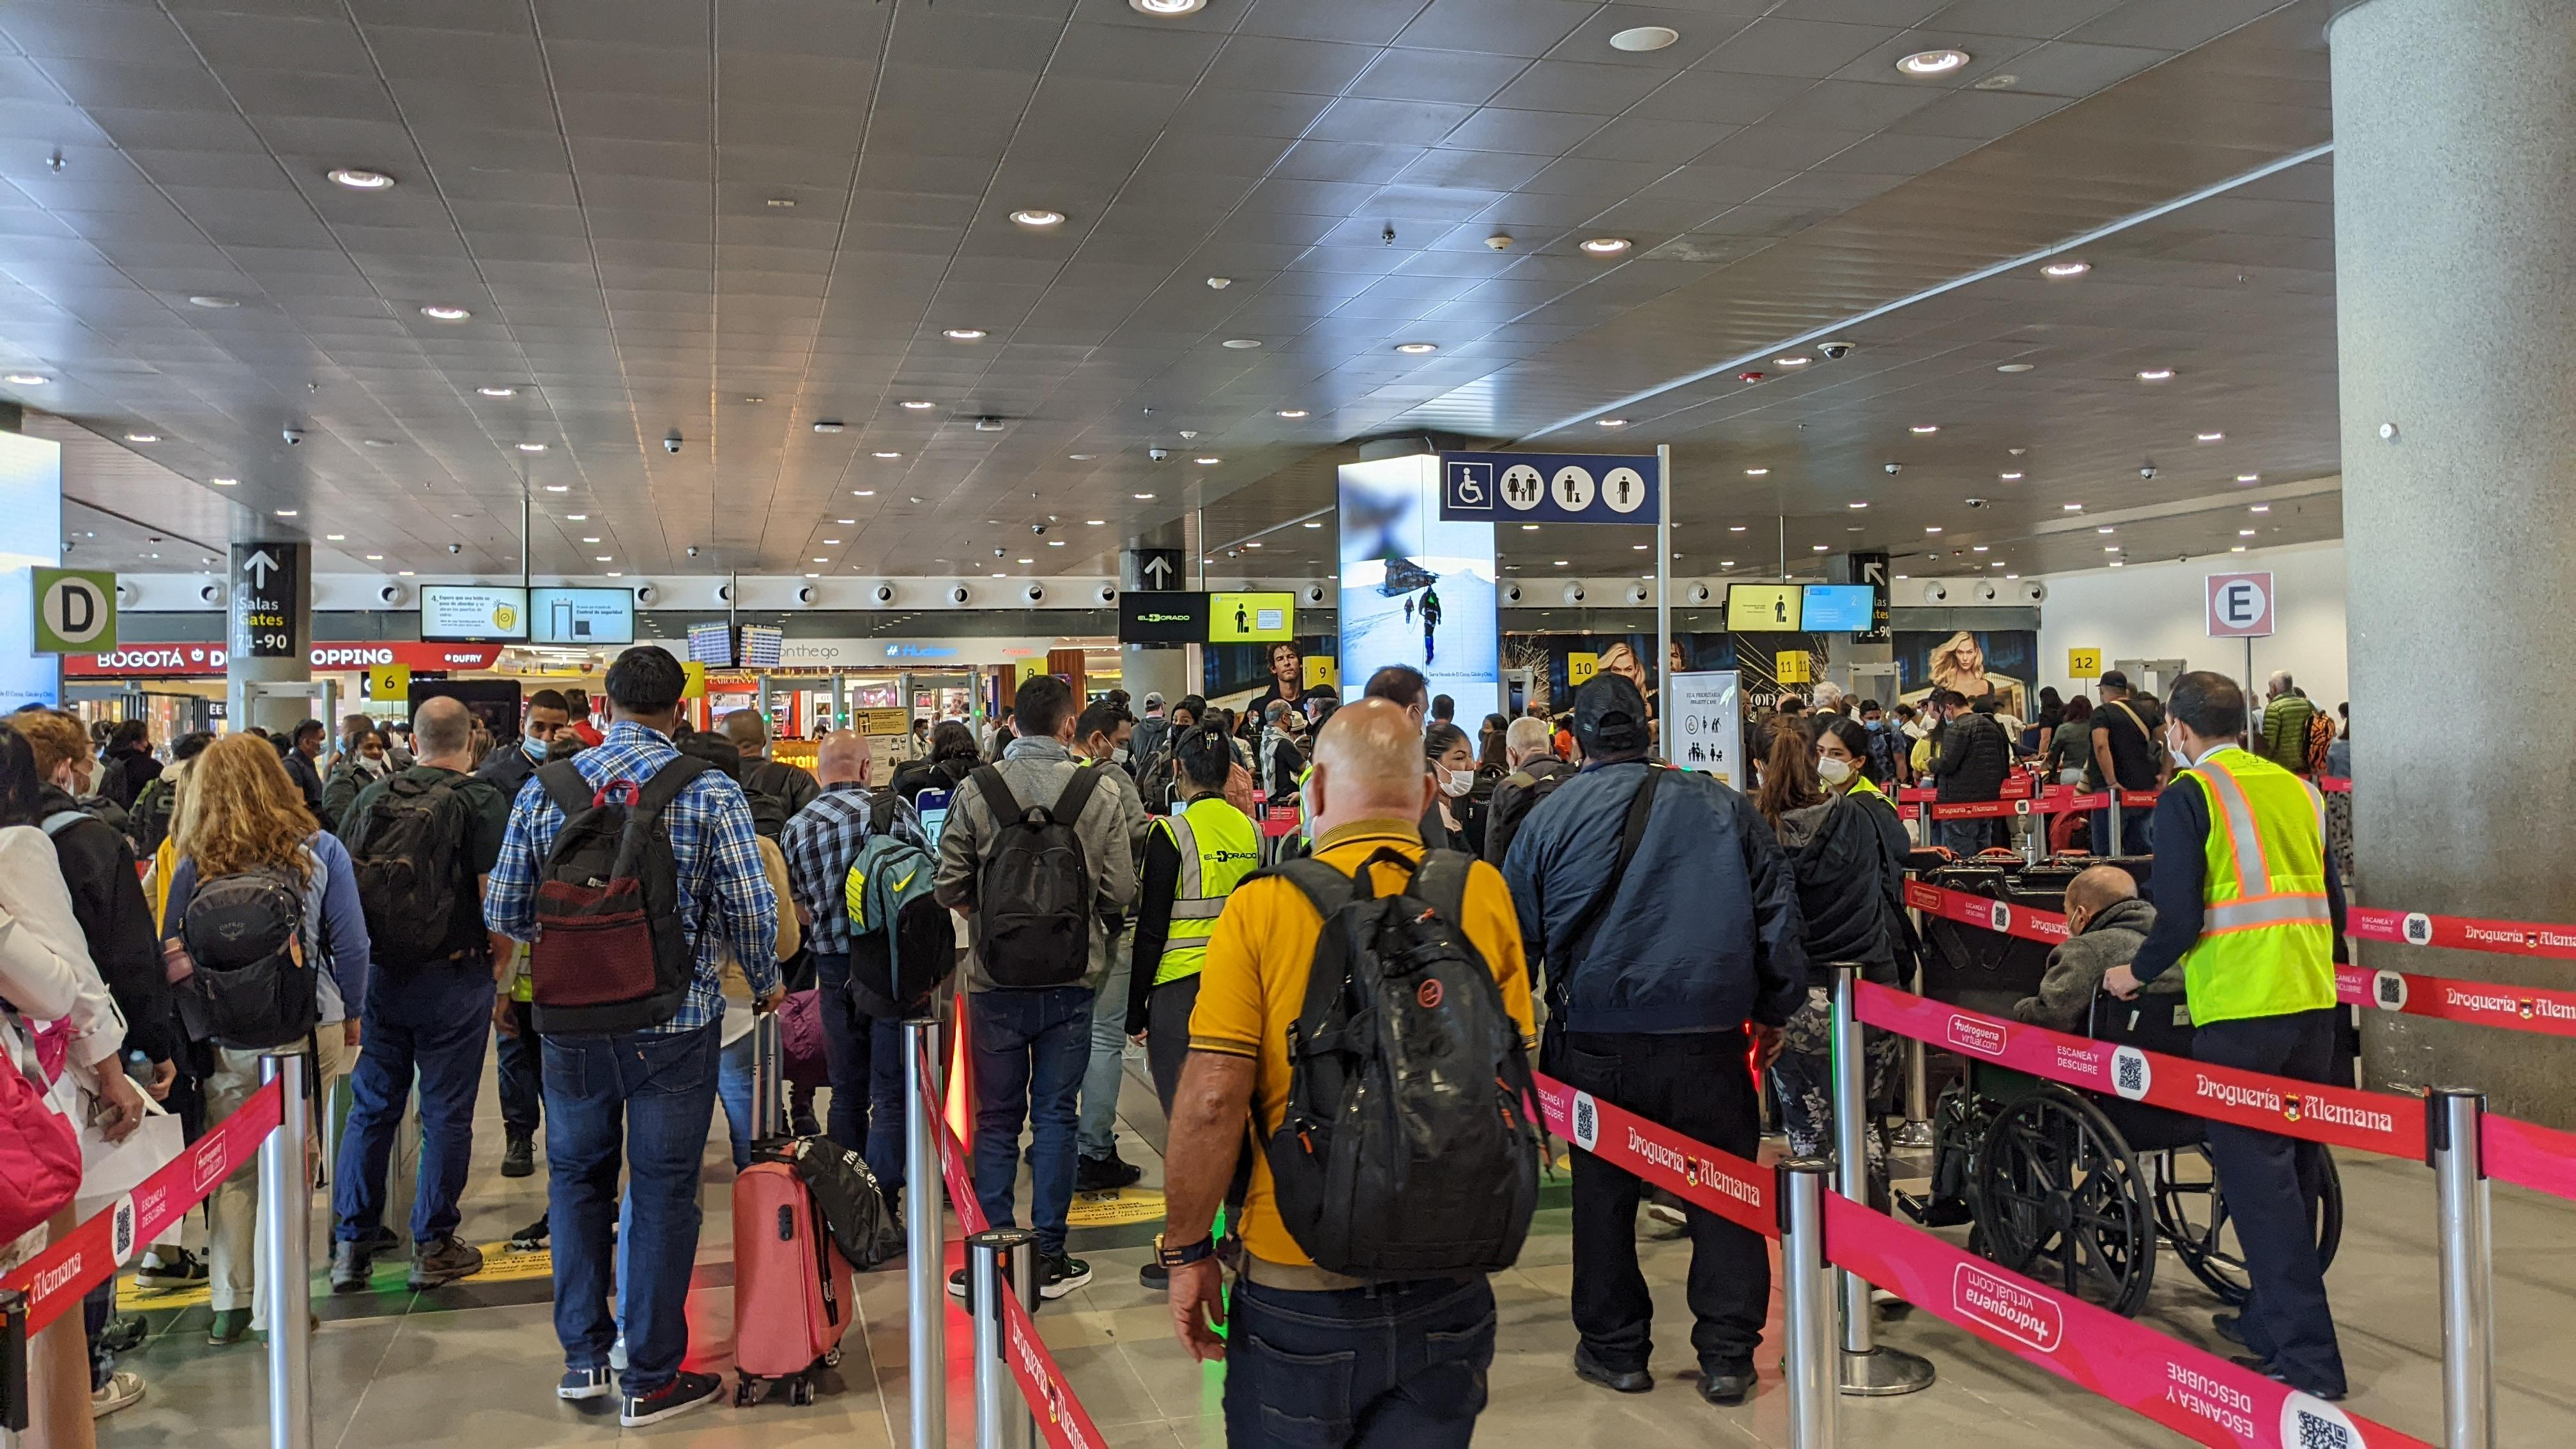handicapped symbol: (1458, 467, 1484, 504)
up arrow: (242, 548, 281, 591), (1141, 556, 1175, 591)
